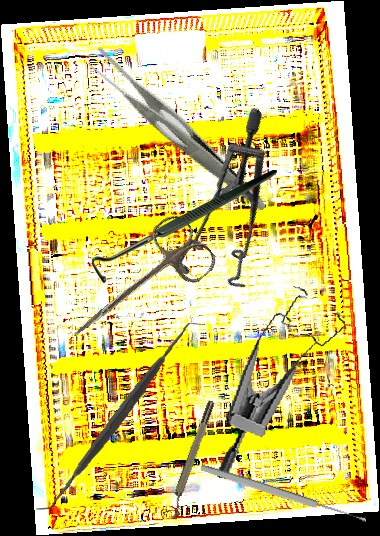Dressing Forceps: (83, 15, 267, 249)
Fixation Ring: (162, 399, 222, 521)
Hook Surgical: (92, 170, 277, 283)
Iris Scissors: (54, 209, 221, 365)
Spatula Surgical: (26, 322, 211, 511)
Speculum: (126, 104, 341, 315), (213, 278, 353, 496)
Surgical Spoon: (199, 462, 368, 526)
